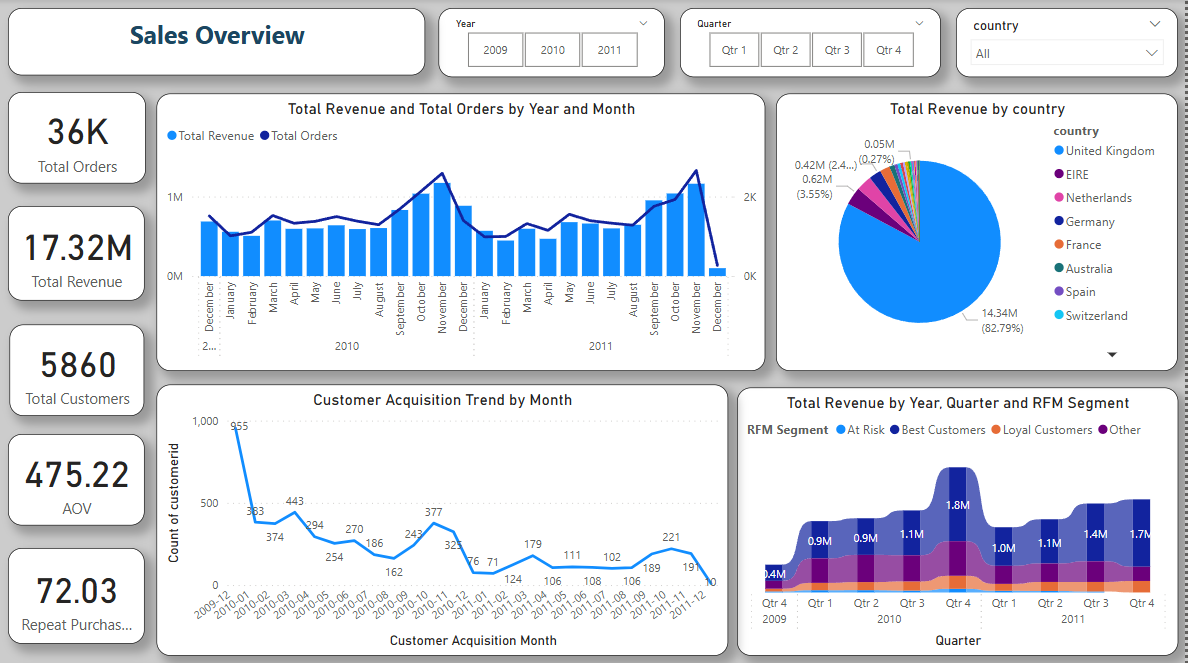

The page's visual inventory and layout, read from the dashboard file:
{"tool":"powerbi","page":{"name":"Executive overview","canvas":[1280,720],"ordinal":0},"visuals":[{"type":"slicer","fields":{"Values":["public clean_sales.invoicedate.Variation.Date Hierarchy.Year"]},"box":[474.1,9.7,244.3,74.4],"z":0},{"type":"card","fields":{"Values":["public clean_sales.Total Orders"]},"box":[9.7,100.3,148.9,98.7],"z":1000},{"type":"card","fields":{"Values":["public clean_sales.Total Revenue"]},"box":[9.7,223.3,147.2,101.9],"z":2000},{"type":"card","fields":{"Values":["Count(public clean_sales.customerid)"]},"box":[11.3,351.1,145.6,98.7],"z":3000},{"type":"card","title":"AOV","fields":{"Values":["public clean_sales.AOV"]},"box":[9.7,469.2,147.2,98.7],"z":4000},{"type":"textbox","box":[9.7,9.7,449.8,72.8],"z":5000},{"type":"slicer","fields":{"Values":["public clean_sales.invoicedate.Variation.Date Hierarchy.Quarter"]},"box":[734.6,9.7,281.5,74.4],"z":6000},{"type":"slicer","fields":{"Values":["public clean_sales.country"]},"box":[1032.3,9.7,239.5,74.4],"z":7000},{"type":"ribbonChart","fields":{"Y":["public clean_sales.Total Revenue"],"Series":["public customer_rfm.RFM Segment"],"Category":["public clean_sales.invoicedate.Variation.Date Hierarchy.Year","public clean_sales.invoicedate.Variation.Date Hierarchy.Quarter"]},"box":[796,419.1,475.7,289.6],"z":8000},{"type":"card","fields":{"Values":["public customer_rfm.Repeat Purchase Rate (%)"]},"box":[9.7,592.2,147.2,103.6],"z":9000},{"type":"lineStackedColumnComboChart","fields":{"Y":["public clean_sales.Total Revenue"],"Y2":["public clean_sales.Total Orders"],"Category":["public clean_sales.invoicedate.Variation.Date Hierarchy.Year","public clean_sales.invoicedate.Variation.Date Hierarchy.Month"]},"box":[169.9,101.9,656.9,299.3],"z":10000},{"type":"lineChart","title":"Customer Acquisition Trend by Month","fields":{"Y":["Count(public clean_sales.customerid)"],"Category":["public clean_sales.Customer Acquisition Month"]},"box":[169.9,415.8,616.4,292.9],"z":12000},{"type":"pieChart","fields":{"Category":["public clean_sales.country"],"Y":["public clean_sales.Total Revenue"]},"box":[838.1,101.9,433.6,299.3],"z":12001}]}

Visuals, with their boxes in screenshot pixels (x1, y1, x2, y2), scaled from the page's 1280x720 canvas onto the 1188x663 screenshot:
slicer - public clean_sales.invoicedate.Variation.Date Hierarchy.Year: left=440, top=9, right=667, bottom=77
card - public clean_sales.Total Orders: left=9, top=92, right=147, bottom=183
card - public clean_sales.Total Revenue: left=9, top=206, right=146, bottom=299
card - Count(public clean_sales.customerid): left=10, top=323, right=146, bottom=414
"AOV" card: left=9, top=432, right=146, bottom=523
textbox: left=9, top=9, right=426, bottom=76
slicer - public clean_sales.invoicedate.Variation.Date Hierarchy.Quarter: left=682, top=9, right=943, bottom=77
slicer - public clean_sales.country: left=958, top=9, right=1180, bottom=77
ribbonChart - public clean_sales.Total Revenue x public customer_rfm.RFM Segment: left=739, top=386, right=1180, bottom=653
card - public customer_rfm.Repeat Purchase Rate (%): left=9, top=545, right=146, bottom=641
lineStackedColumnComboChart - public clean_sales.Total Revenue x public clean_sales.Total Orders: left=158, top=94, right=767, bottom=369
"Customer Acquisition Trend by Month" lineChart: left=158, top=383, right=730, bottom=653
pieChart - public clean_sales.country x public clean_sales.Total Revenue: left=778, top=94, right=1180, bottom=369
